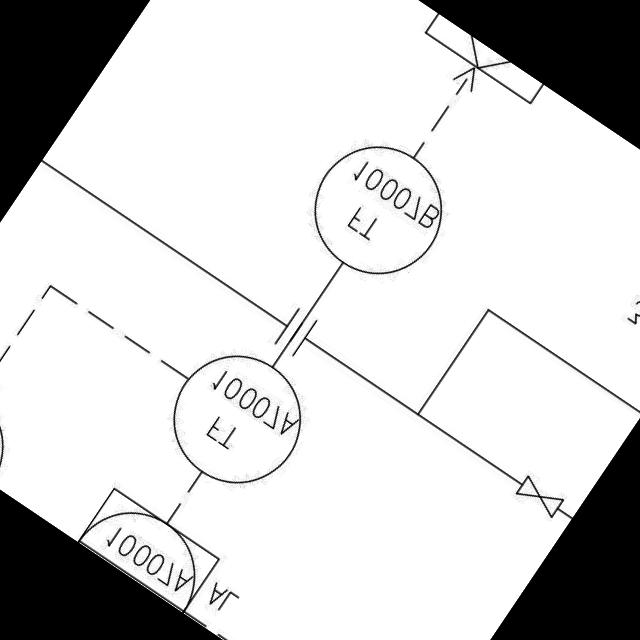GV: (505, 468, 571, 526)
